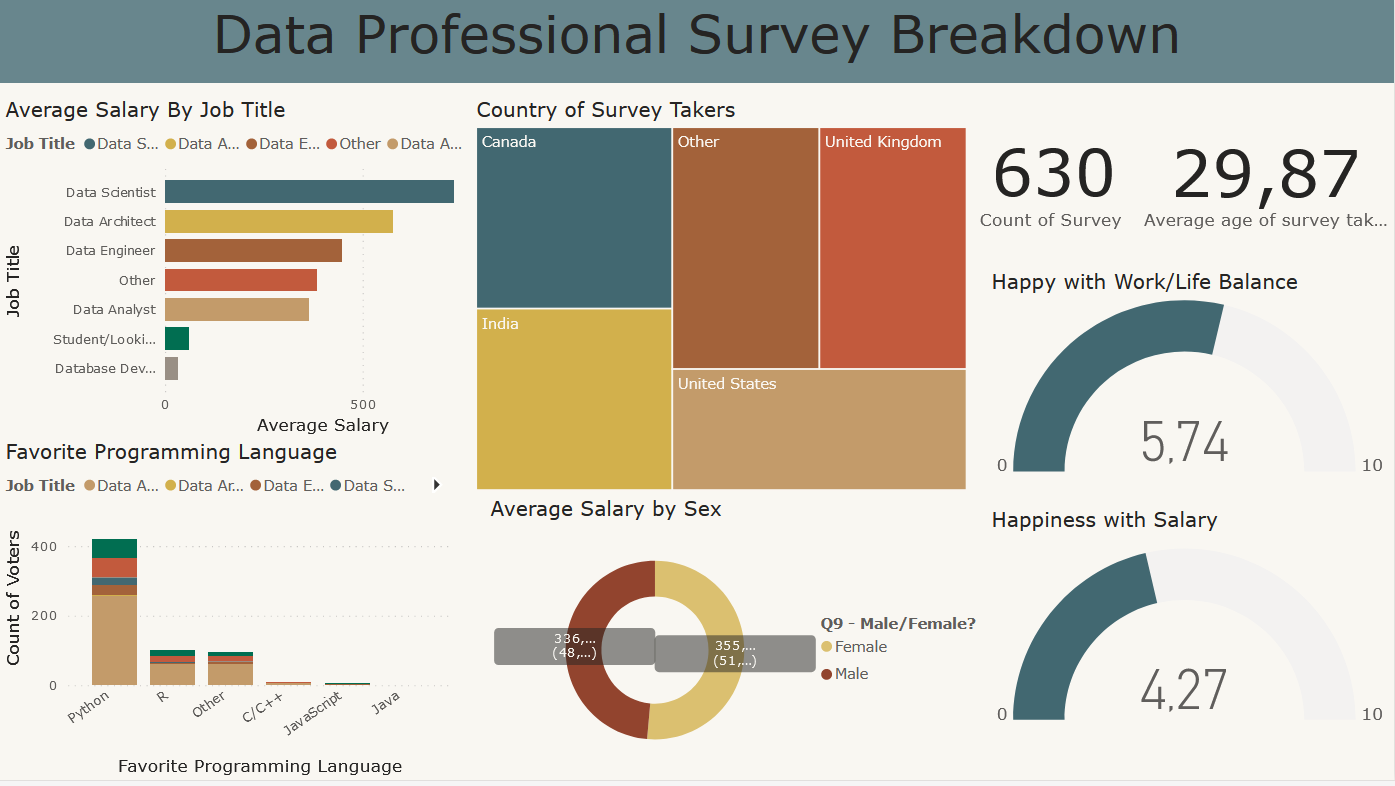

This screenshot's page, from the dashboard's own definition file:
{"tool":"powerbi","page":{"name":"Página 1","canvas":[1280,720],"ordinal":0},"visuals":[{"type":"textbox","box":[0,0,1280.3,80.1],"z":0},{"type":"card","fields":{"Values":["CountNonNull(Data Professional Survey.Unique ID)"]},"box":[892.5,92.8,152.6,150],"z":1000},{"type":"card","fields":{"Values":["Avg(Data Professional Survey.Q10 - Current Age)"]},"box":[1045.6,93.3,234.6,150.9],"z":2000},{"type":"barChart","title":"Average Salary By Job Title","fields":{"Category":["Data Professional Survey.Q1 - Which Title Best Fits your Current Role?.1"],"Y":["Avg(Data Professional Survey.Average Salary)"],"Series":["Data Professional Survey.Q1 - Which Title Best Fits your Current Role?.1"]},"box":[0,93.1,459.3,314.4],"z":3000},{"type":"columnChart","title":"Favorite Programming Language","fields":{"Category":["Data Professional Survey.Q5 - Favorite Programming Language.1"],"Y":["CountNonNull(Data Professional Survey.Unique ID)"],"Series":["Data Professional Survey.Q1 - Which Title Best Fits your Current Role?.1"]},"box":[0,406.8,420.8,314],"z":4000},{"type":"treemap","title":" Country of Survey Takers","fields":{"Group":["Data Professional Survey.Q11 - Which Country do you live in?.1"],"Values":["Count(Data Professional Survey.Q11 - Which Country do you live in?.1)"]},"box":[432.3,92.8,460.2,366.2],"z":5000},{"type":"gauge","title":"Happy with Work/Life Balance","fields":{"Y":["Avg(Data Professional Survey.Q6 - How Happy are you in your Current Position with the following? (Work/Life Balance))"],"MinValue":["Min(Data Professional Survey.Q6 - How Happy are you in your Current Position with the following? (Work/Life Balance))1"],"MaxValue":["Max(Data Professional Survey.Q6 - How Happy are you in your Current Position with the following? (Work/Life Balance))2"]},"box":[905.2,250.5,375.1,198.3],"z":6000},{"type":"gauge","title":"Happiness with Salary","fields":{"Y":["Avg(Data Professional Survey.Q6 - How Happy are you in your Current Position with the following? (Salary))"],"MinValue":["Min(Data Professional Survey.Q6 - How Happy are you in your Current Position with the following? (Salary))"],"MaxValue":["Max(Data Professional Survey.Q6 - How Happy are you in your Current Position with the following? (Salary))"]},"box":[905.2,469.1,375.1,216.1],"z":7000},{"type":"donutChart","title":"Average Salary by Sex","fields":{"Category":["Data Professional Survey.Q9 - Male/Female?"],"Y":["Avg(Data Professional Survey.Average Salary)"]},"box":[445,459,460,261],"z":8000}]}

Visuals, with their boxes in screenshot pixels (x1, y1, x2, y2), scaled from the page's 1280x720 canvas onto the 1395x786 screenshot:
textbox: {"x1": 0, "y1": 0, "x2": 1394, "y2": 87}
card - CountNonNull(Data Professional Survey.Unique ID): {"x1": 973, "y1": 101, "x2": 1139, "y2": 265}
card - Avg(Data Professional Survey.Q10 - Current Age): {"x1": 1140, "y1": 102, "x2": 1394, "y2": 267}
"Average Salary By Job Title" barChart: {"x1": 0, "y1": 102, "x2": 501, "y2": 445}
"Favorite Programming Language" columnChart: {"x1": 0, "y1": 444, "x2": 459, "y2": 785}
" Country of Survey Takers" treemap: {"x1": 471, "y1": 101, "x2": 973, "y2": 501}
"Happy with Work/Life Balance" gauge: {"x1": 987, "y1": 273, "x2": 1394, "y2": 490}
"Happiness with Salary" gauge: {"x1": 987, "y1": 512, "x2": 1394, "y2": 748}
"Average Salary by Sex" donutChart: {"x1": 485, "y1": 501, "x2": 986, "y2": 785}
